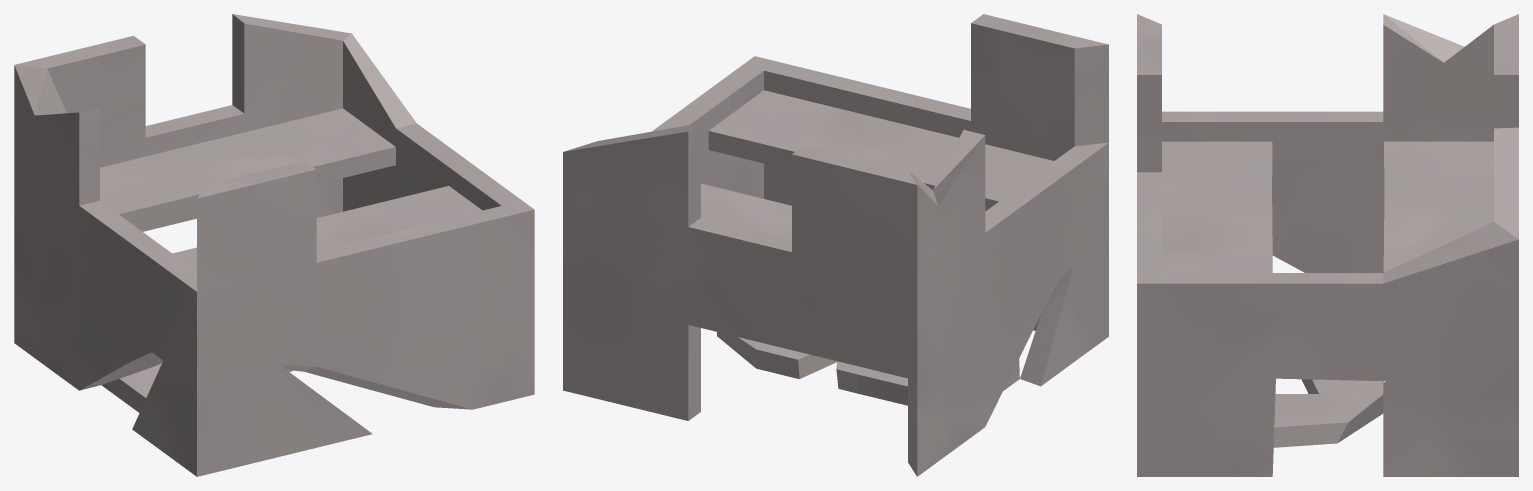
The model's file is Ab_House_3.fbx.
The picture shows the model from 3 angles, left to right: view 1: azimuth 30°, elevation 25°; view 2: azimuth 150°, elevation 25°; view 3: azimuth 270°, elevation 25°; orthographic projection. The views are drawn at different scales.
Parts seen in each view (by area): view 1: Ab_House_3; view 2: Ab_House_3; view 3: Ab_House_3.
Part boxes in pixels (<box>): Ab_House_3: <box>14,14,534,476</box>; Ab_House_3: <box>563,14,1108,476</box>; Ab_House_3: <box>1137,14,1518,476</box>.
Bounding box in the file's own units: 22.44 × 17.68 × 21.04.
